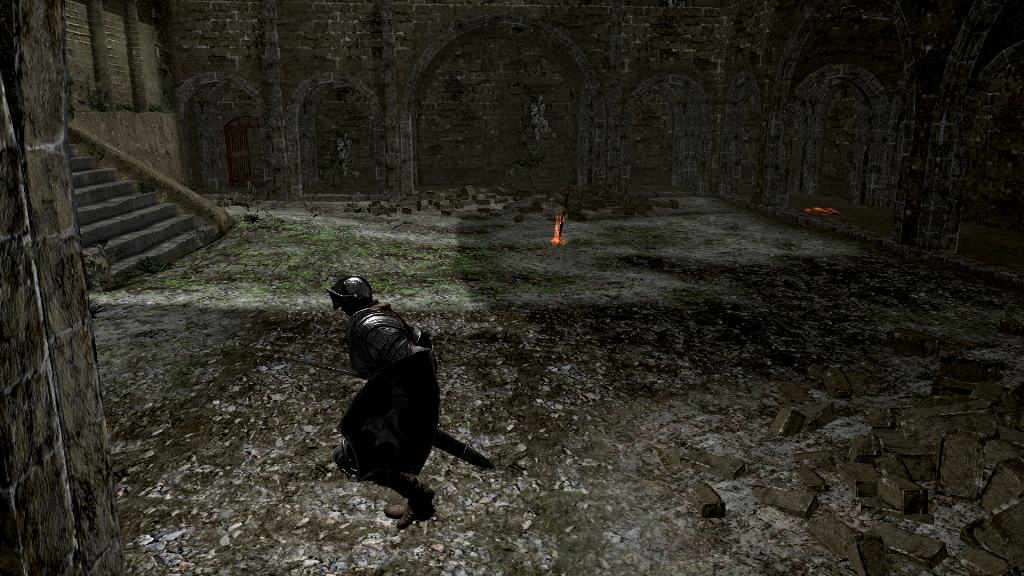bonfire: (548, 185, 574, 248)
player: (274, 273, 444, 531)
